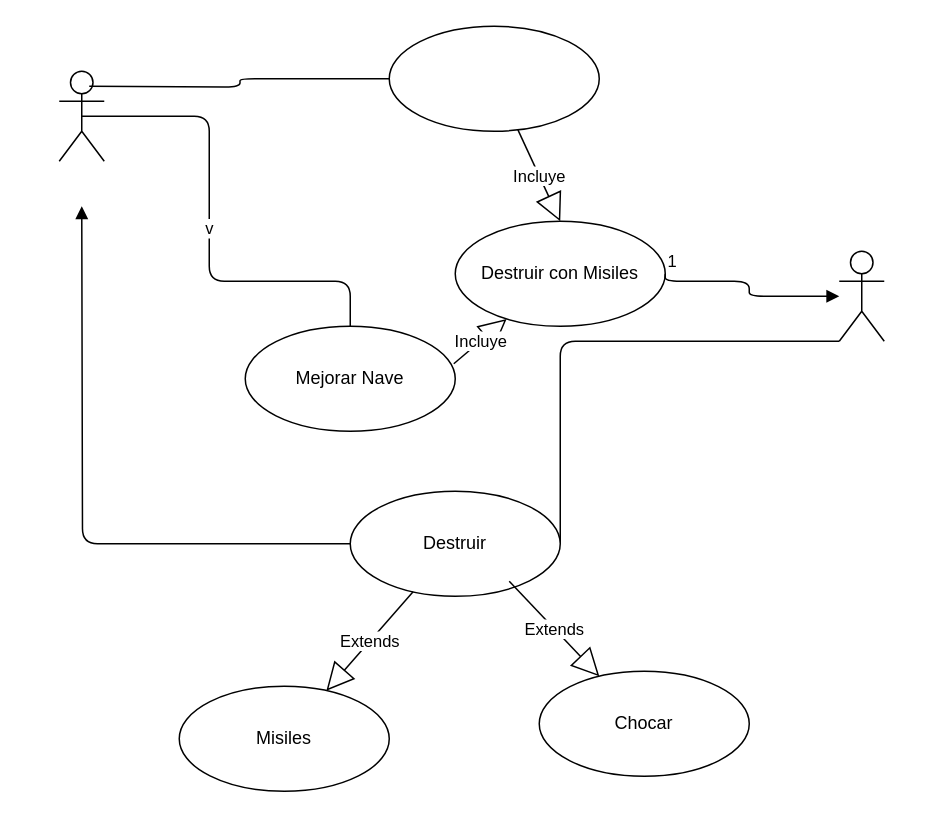
This 947x818 diagram has some shape labels left out. The shapes that lost their labels are listed below. From the top down, each one's box as (x1, y1, x2, y2) in pixels, then its label:
(388, 25, 599, 131): Ganar Puntos
(58, 70, 104, 161): Nave Jugador
(838, 250, 884, 341): Nave Enemiga
